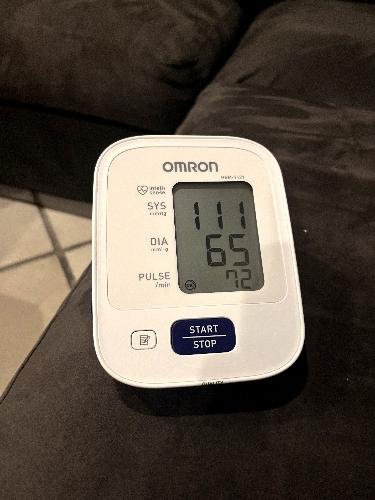bpm: (171, 177, 267, 296)
